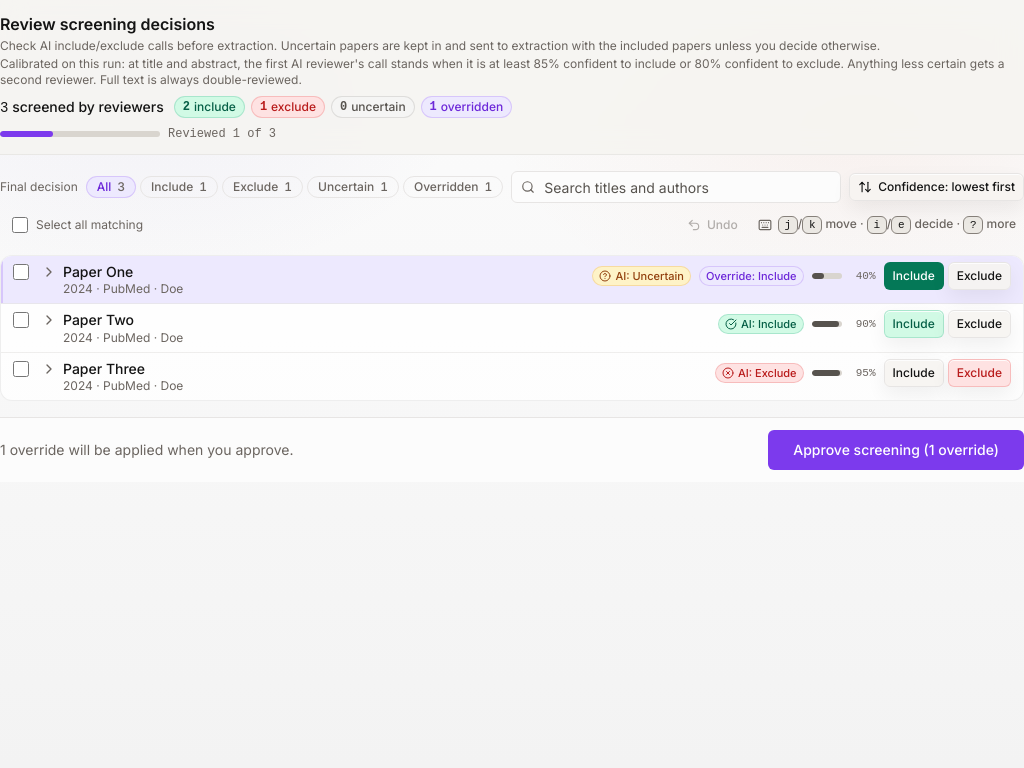
Scenario: ScreeningReviewView › seeds the reason input from the persisted override
Click the button "Paper One 2024 · PubMed · Doe": (98, 272) [41,262,580,297]
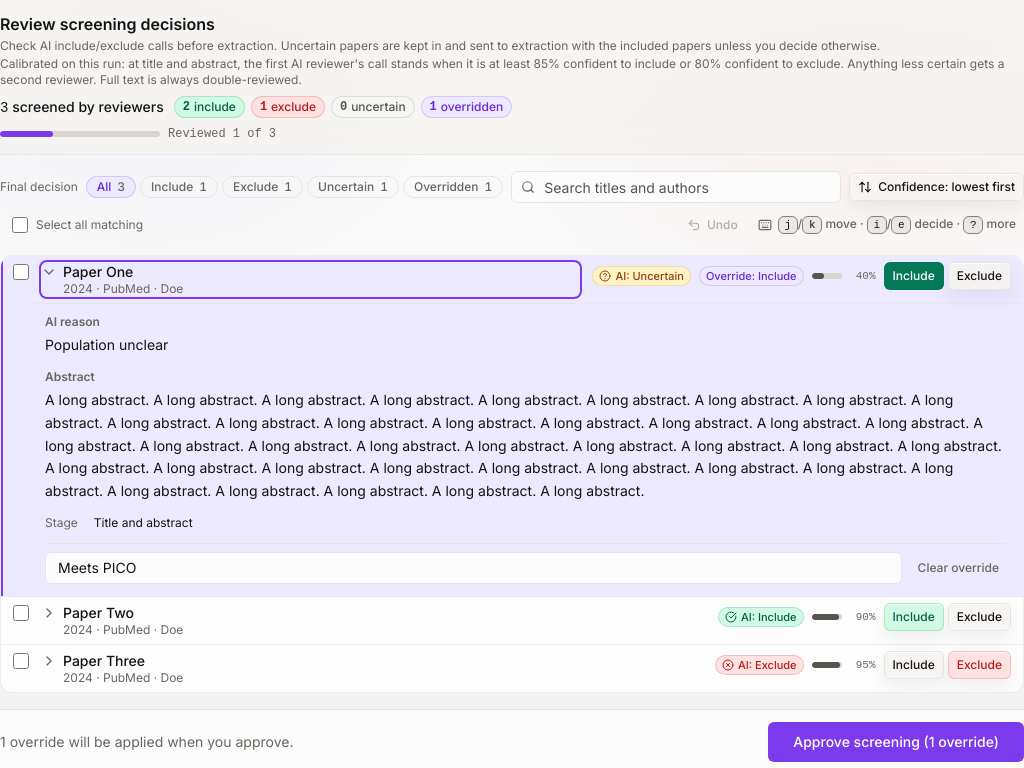
Check: the button "Paper One 2024 · PubMed · Doe" is expanded, box [41,262,580,297]
Check: the field named "Reason for override" holds "Meets PICO"
In the field named "Reason for override": (473, 568) [45,552,902,584], type " too"
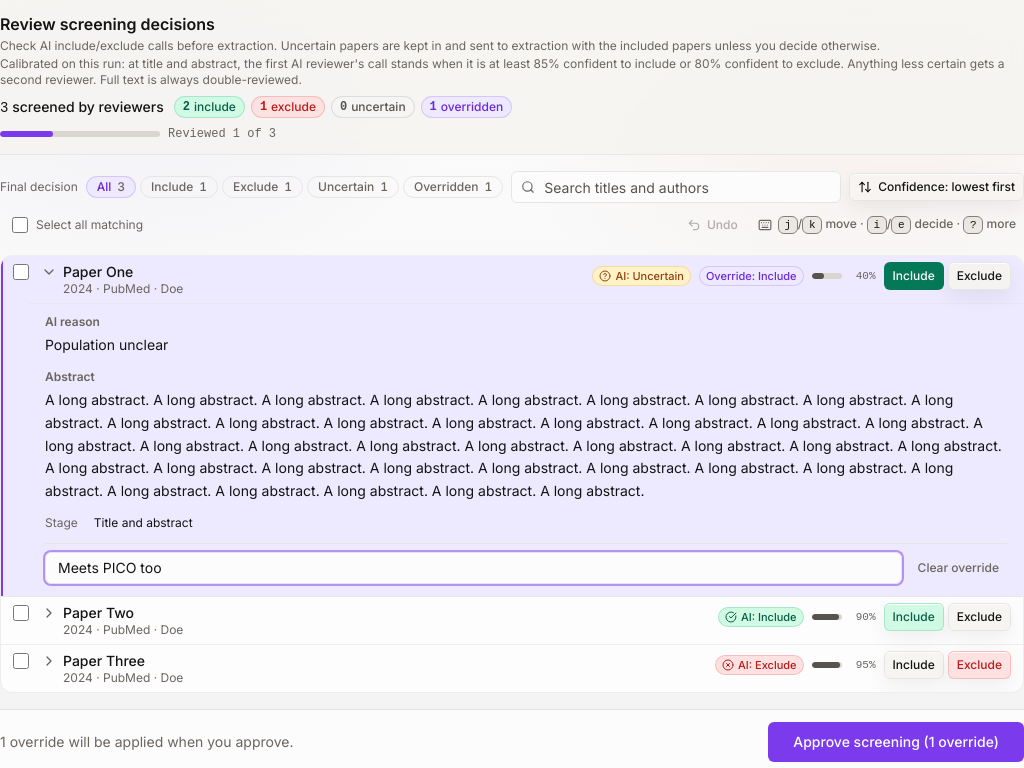
Check: the text "Population unclear" is shown, box [45,336,168,353]
Check: the text "Title and abstract" is shown, box [94,515,193,530]
Check: the field named "Reason for override" holds "Meets PICO too", box [45,552,902,584]
